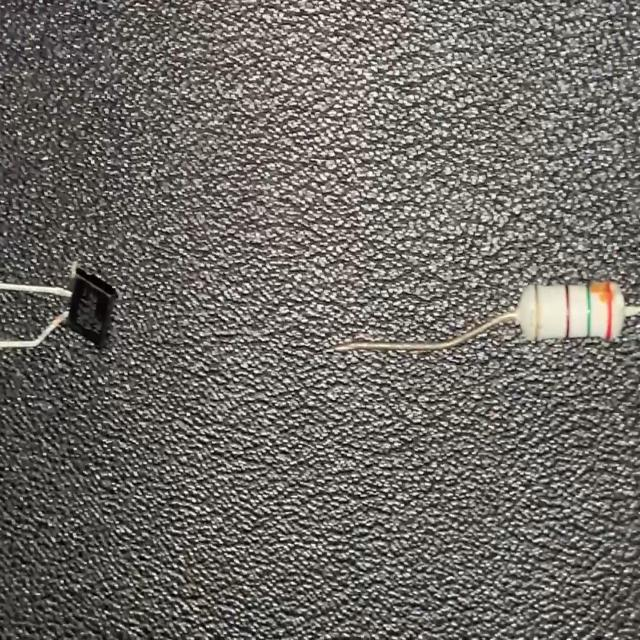burnt: (588, 284, 615, 310)
missing-leg: (0, 256, 118, 353)
resistor: (329, 276, 640, 358)
